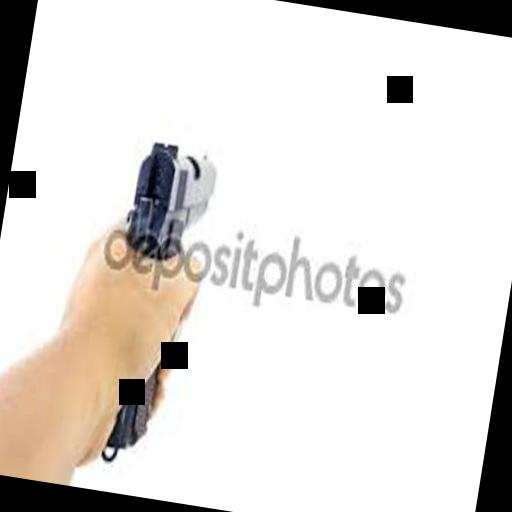Handgun: (88, 136, 224, 472)
